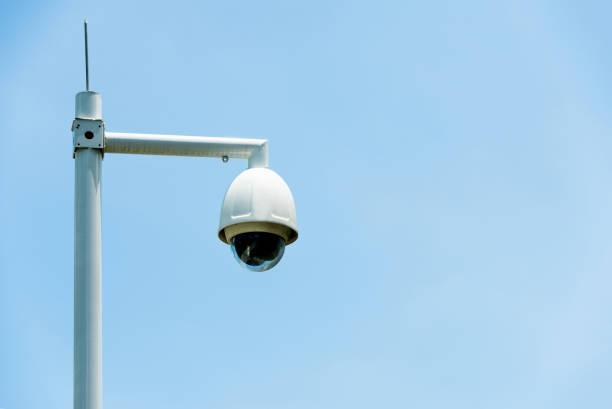camera: (203, 168, 312, 285)
